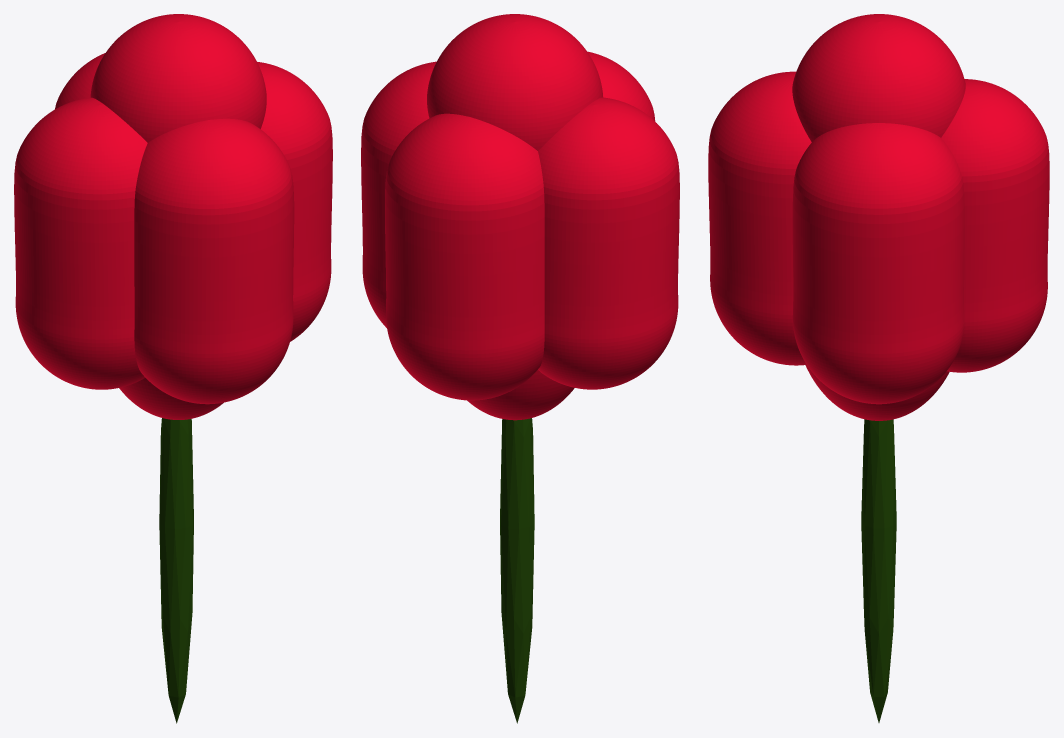
File: Tree3_2.fbx
The picture shows the model from 3 angles, left to right: view 1: azimuth 30°, elevation 25°; view 2: azimuth 150°, elevation 25°; view 3: azimuth 270°, elevation 25°; orthographic projection.
Parts seen in each view (by area): view 1: Esfera UV.002, Esfera icosaédrica; view 2: Esfera UV.002, Esfera icosaédrica; view 3: Esfera UV.002, Esfera icosaédrica.
Part boxes in pixels (x1=…): Esfera UV.002: x1=14, y1=14, x2=332, y2=419; Esfera icosaédrica: x1=159, y1=418, x2=193, y2=723; Esfera UV.002: x1=361, y1=14, x2=679, y2=420; Esfera icosaédrica: x1=500, y1=418, x2=534, y2=723; Esfera UV.002: x1=708, y1=14, x2=1049, y2=420; Esfera icosaédrica: x1=861, y1=419, x2=896, y2=722.
Bounding box in the file's own units: 1923 × 4358 × 1918.
